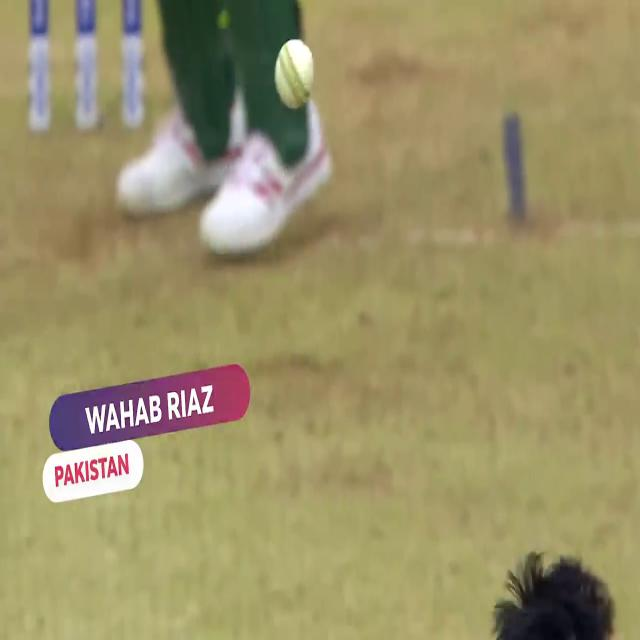ball: (273, 37, 317, 113)
